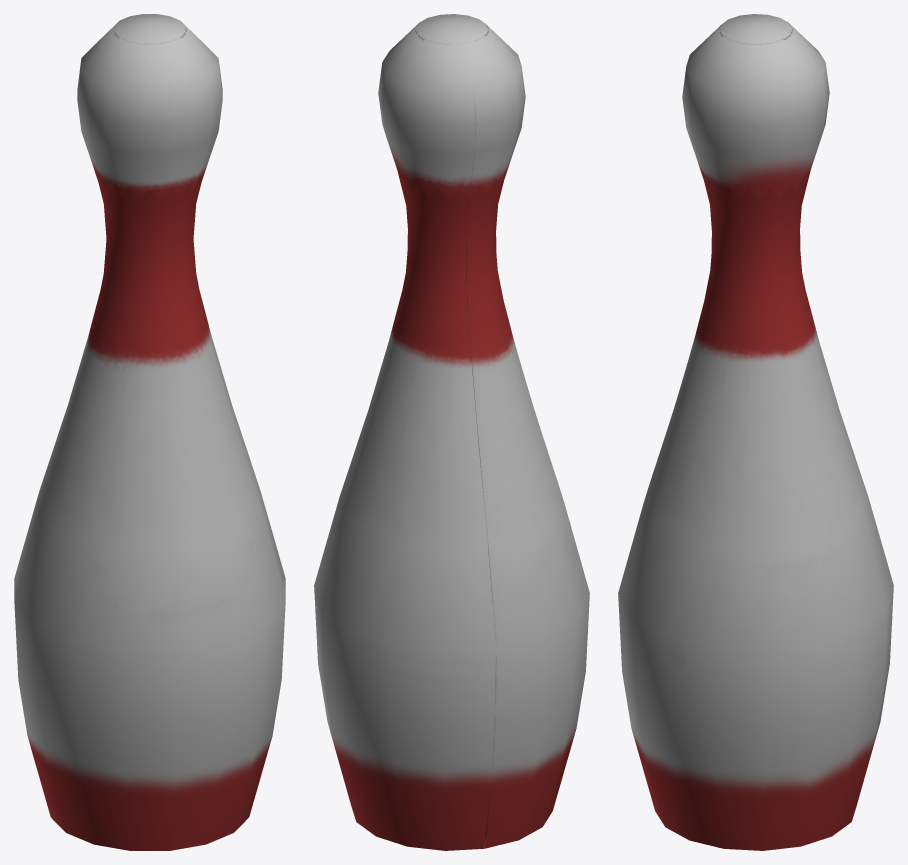
File: Bren_Bowling_Pin_CollisionTest.FBX
3 views of the same model, side by side, from view 1: azimuth 30°, elevation 25°; view 2: azimuth 150°, elevation 25°; view 3: azimuth 270°, elevation 25° (orthographic).
Visible parts, largest first — view 1: Bowling_Pin; view 2: Bowling_Pin; view 3: Bowling_Pin.
Part boxes in pixels (box(x1,y1,x2,y2)): Bowling_Pin: box(14, 14, 285, 850); Bowling_Pin: box(314, 14, 589, 850); Bowling_Pin: box(618, 14, 893, 850).
Size of what is drawn, in the model's own units: 0.6226 by 1.95 by 0.6226.
Materials: 1 (1 with a texture image).
